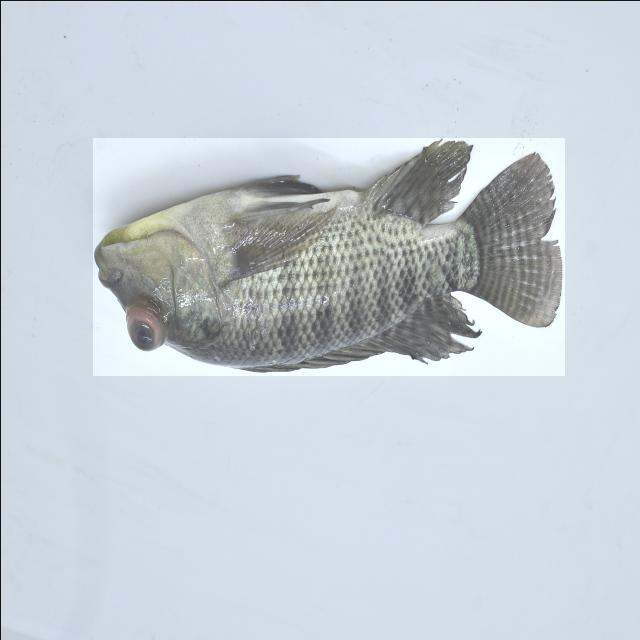streptococcus Disease: (92, 137, 564, 375)
